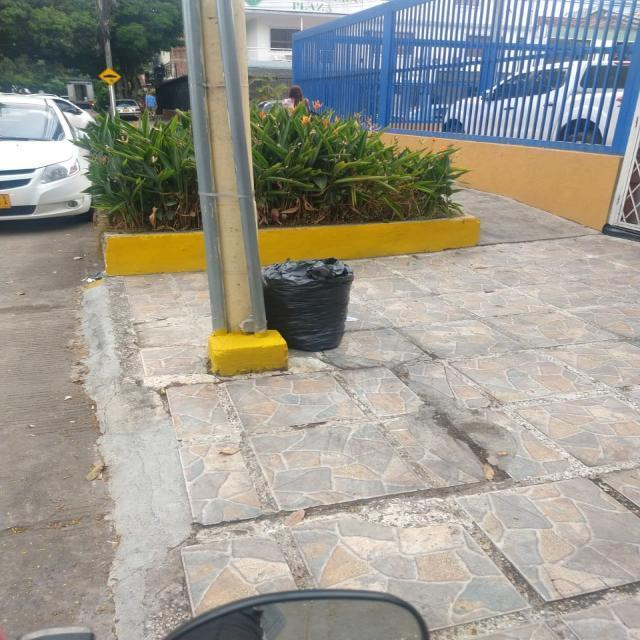Trashbag: (263, 248, 355, 354)
